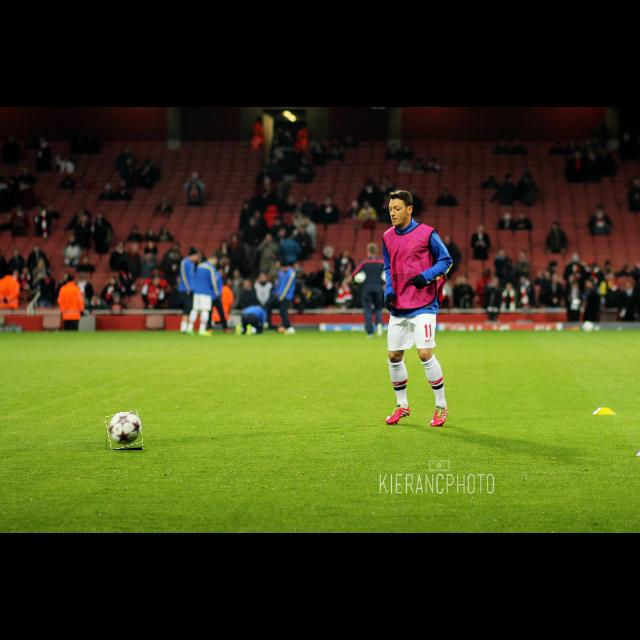Football: (106, 412, 142, 450)
